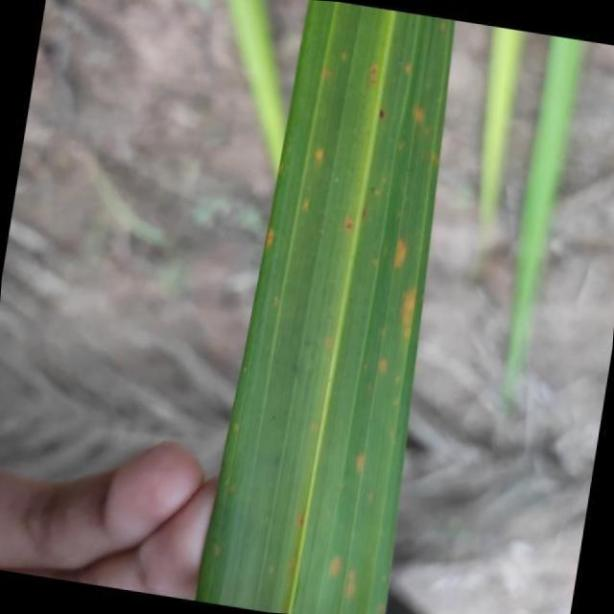Kalium: (195, 9, 459, 614)
